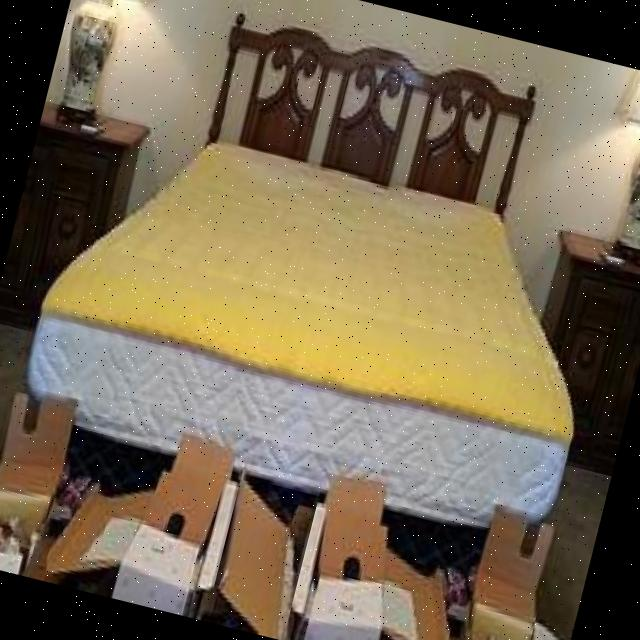Bed: (4, 0, 640, 594)
